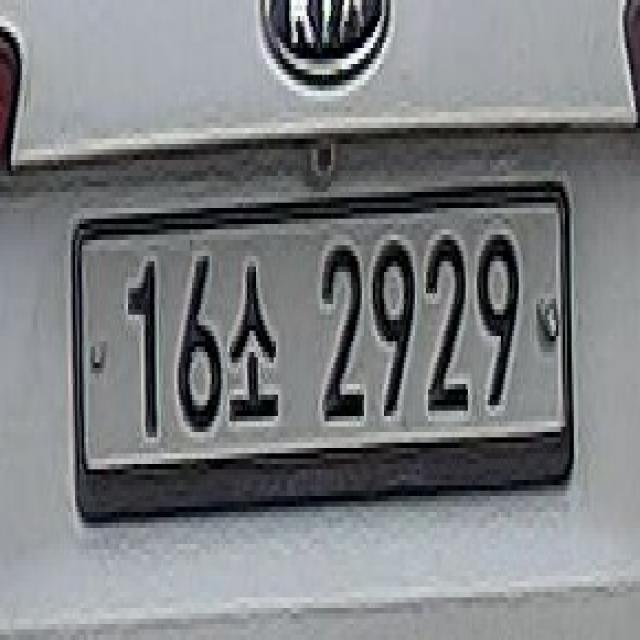1: (124, 245, 163, 459)
2: (422, 224, 470, 437), (318, 235, 366, 437)
6: (170, 251, 225, 448)
9: (472, 224, 526, 421), (368, 235, 419, 437)
license_plate: (66, 165, 578, 555)
so: (223, 251, 285, 437)
